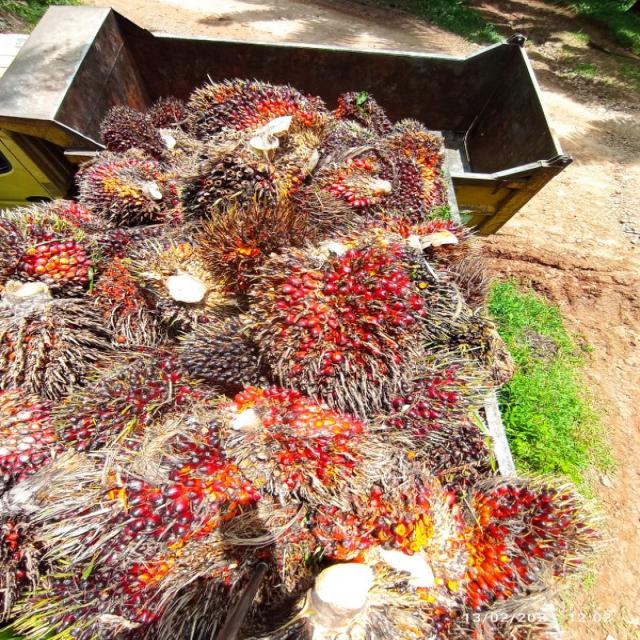fraksi 00: (77, 144, 201, 236), (188, 140, 290, 226), (188, 67, 305, 139), (173, 320, 275, 399), (96, 108, 166, 159)
fraksi 1: (52, 418, 269, 553), (22, 527, 224, 633), (44, 353, 233, 442), (0, 203, 103, 293), (384, 358, 482, 439), (305, 146, 400, 217), (388, 152, 461, 221)
fraksi 3: (239, 237, 434, 405), (407, 460, 613, 618), (209, 369, 386, 506), (320, 466, 438, 562)
fraksi 4: (71, 256, 164, 336)
